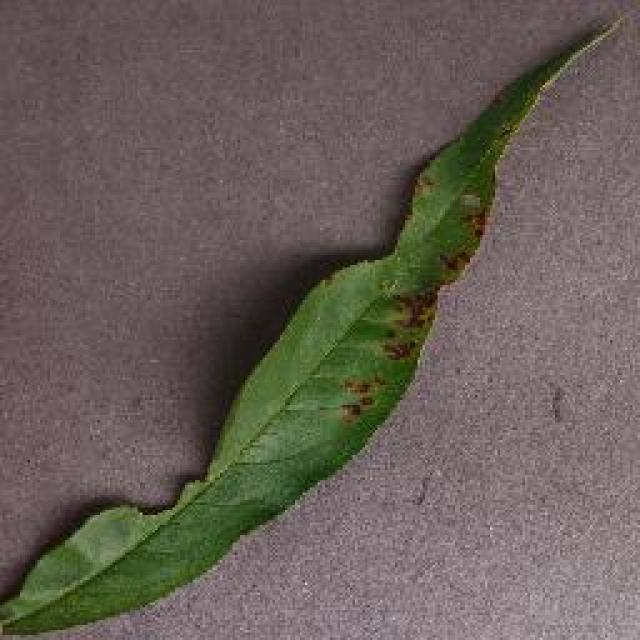Peach_Bacterial_Spot: (330, 178, 492, 444)
